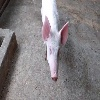heo: (41, 14, 71, 84)
